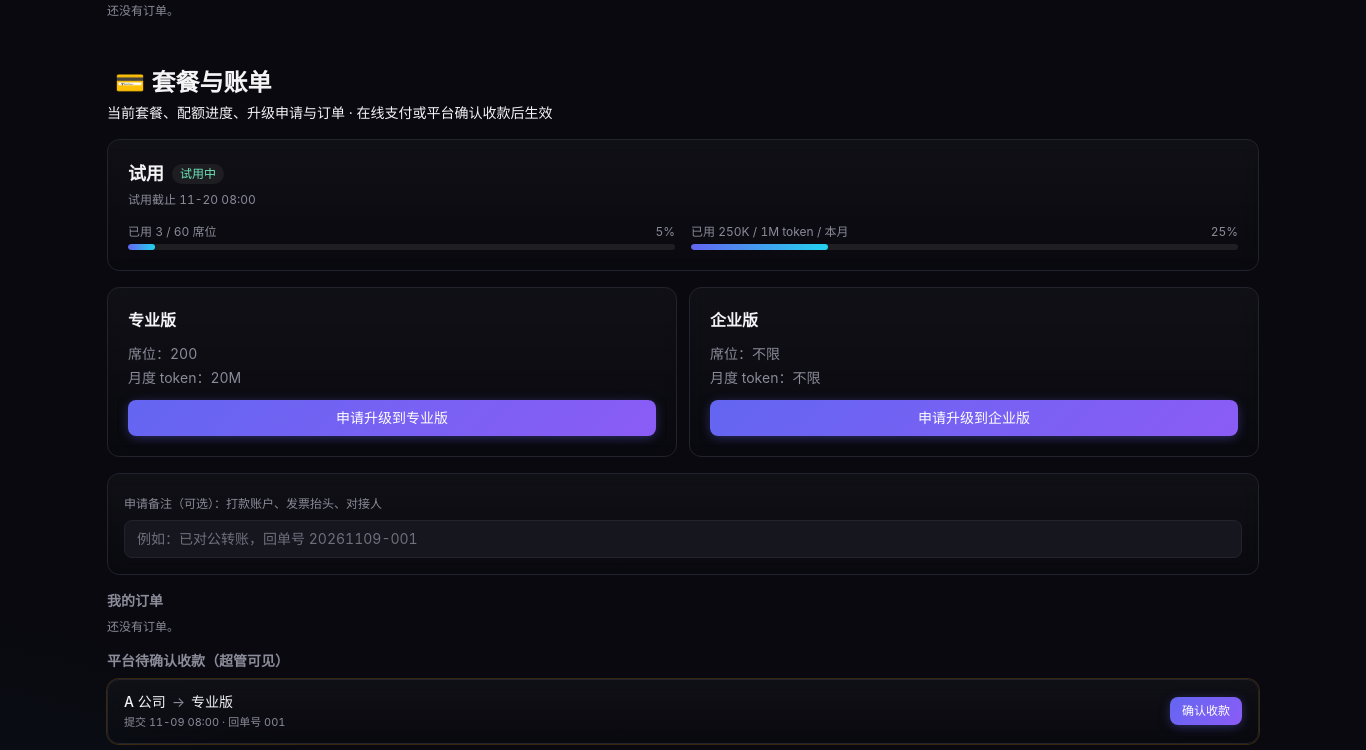
套餐升级申请流 › 超管能确认收款；非超管完全看不到平台区块
(page scrolled)
What coordinates should you click on to do the following:
click the button "确认收款"
I would click on:
 (1206, 711)
Its box is top-left (1170, 697), bottom-right (1242, 725).
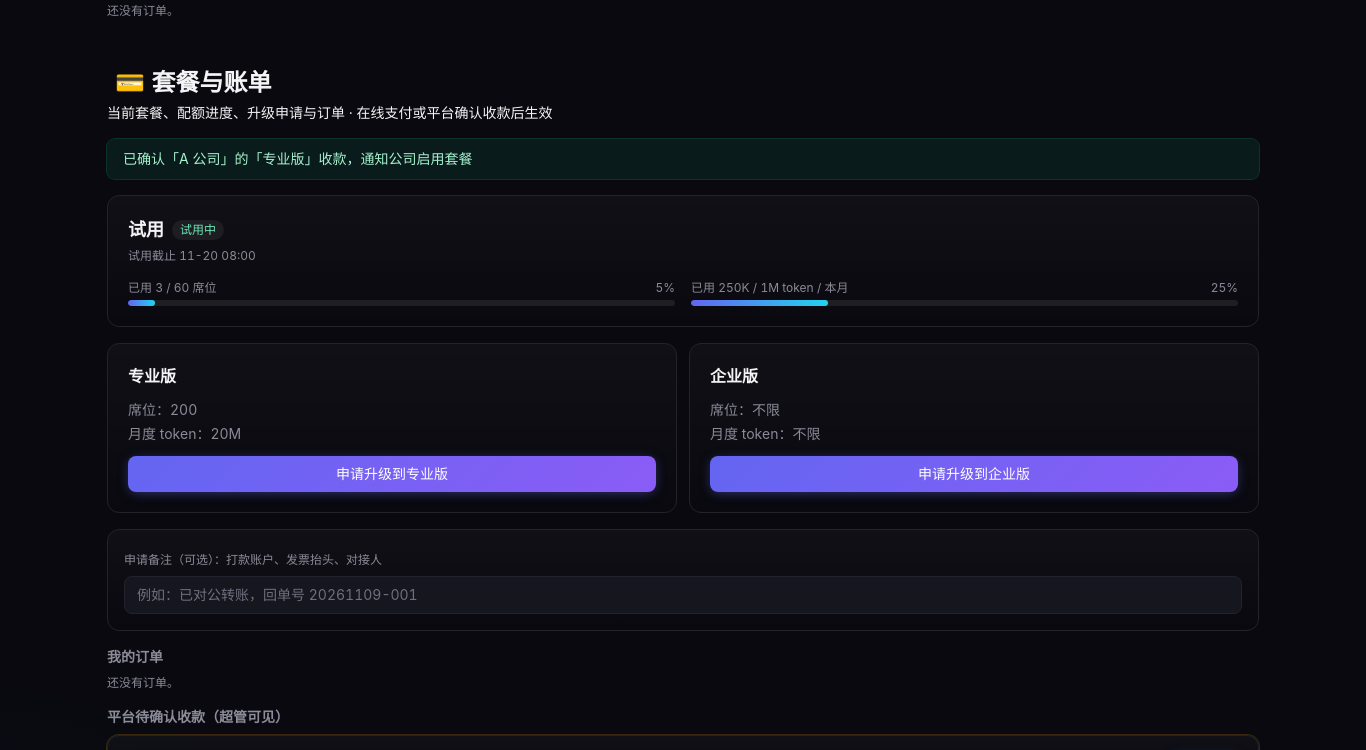
expect the text "已确认「A 公司」的「专业版」收款，通知公司启用套餐" is shown: met, box top-left (107, 139), bottom-right (1259, 179)
